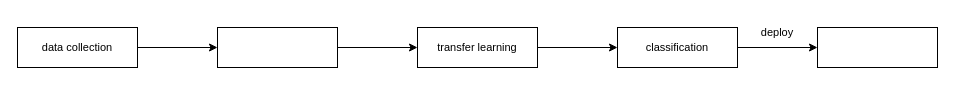
Some shapes in this 955 by 85 pixel diagram are drawn without their labels. Each missing label, with the box of its shape:
image preprocessing: (216, 26, 338, 68)
web development: (816, 26, 938, 68)
